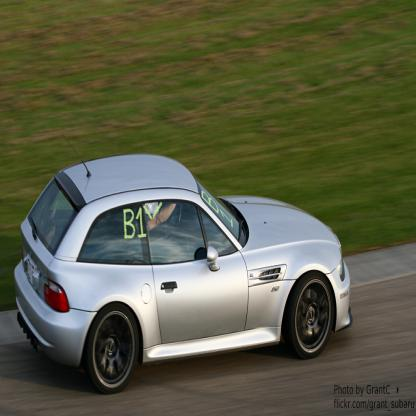Car: (14, 134, 353, 394)
